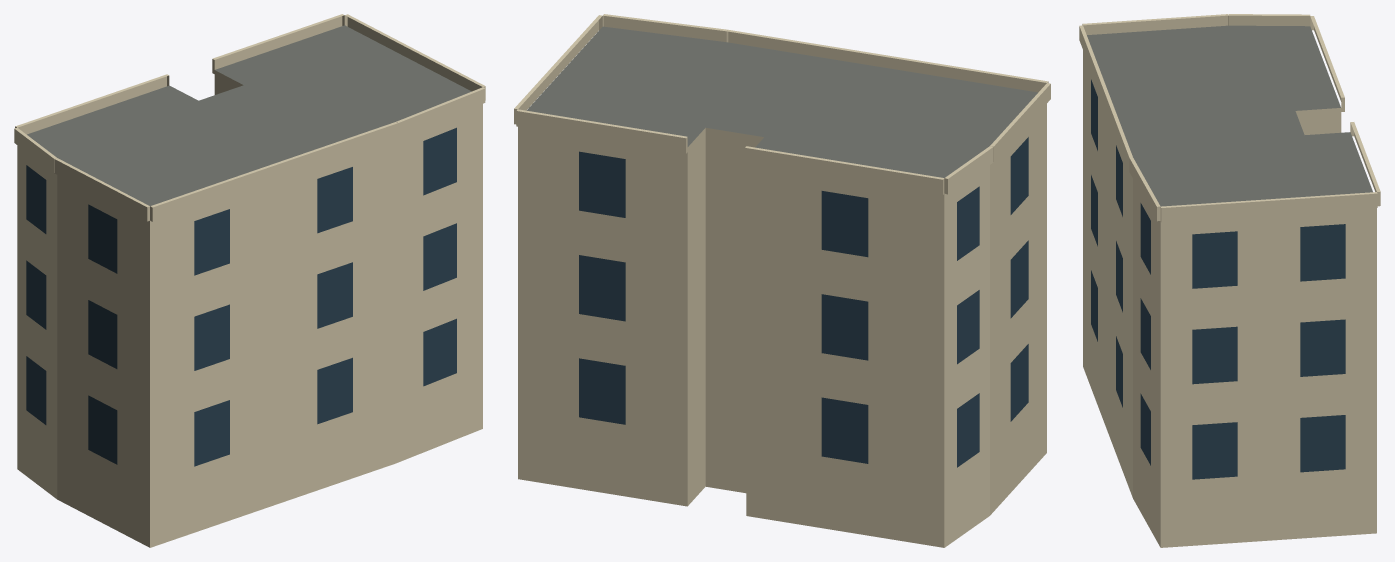
3 views of the same model, side by side, from view 1: azimuth 30°, elevation 25°; view 2: azimuth 150°, elevation 25°; view 3: azimuth 270°, elevation 25° (orthographic). The views are drawn at different scales.
Parts seen in each view (by area): view 1: Footprint 0 / surface 2, Footprint 0 / surface 1, Inset glazing, Facade bay volumes; view 2: Footprint 0 / surface 2, Footprint 0 / surface 1, Inset glazing, Facade bay volumes; view 3: Footprint 0 / surface 2, Footprint 0 / surface 1, Inset glazing, Facade bay volumes.
Boxes of the visible parts, x1=… form: Footprint 0 / surface 2: x1=17, y1=70, x2=482, y2=547; Footprint 0 / surface 1: x1=27, y1=25, x2=471, y2=206; Inset glazing: x1=26, y1=127, x2=456, y2=466; Facade bay volumes: x1=14, y1=14, x2=485, y2=221; Footprint 0 / surface 2: x1=518, y1=104, x2=1046, y2=547; Footprint 0 / surface 1: x1=527, y1=26, x2=1038, y2=177; Inset glazing: x1=579, y1=137, x2=1028, y2=467; Facade bay volumes: x1=514, y1=14, x2=1050, y2=195; Footprint 0 / surface 2: x1=1083, y1=50, x2=1376, y2=547; Footprint 0 / surface 1: x1=1087, y1=25, x2=1372, y2=206; Inset glazing: x1=1091, y1=79, x2=1345, y2=479; Facade bay volumes: x1=1079, y1=14, x2=1380, y2=222.
Bounding box in the file's own units: 14.52 × 11.9 × 9.52.
